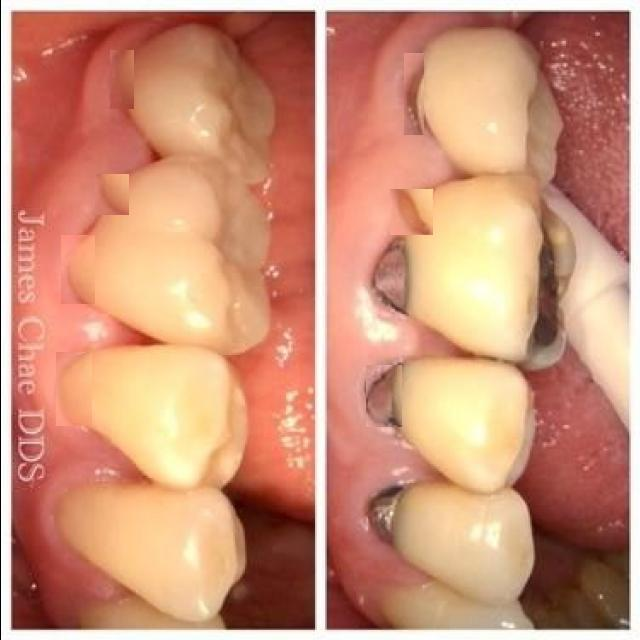caries: (529, 226, 557, 354), (367, 239, 407, 323), (359, 485, 405, 555), (50, 486, 96, 553), (55, 352, 91, 426), (60, 235, 94, 304), (365, 365, 401, 427), (389, 190, 432, 236), (403, 53, 423, 135), (109, 50, 133, 109), (94, 174, 128, 215)
